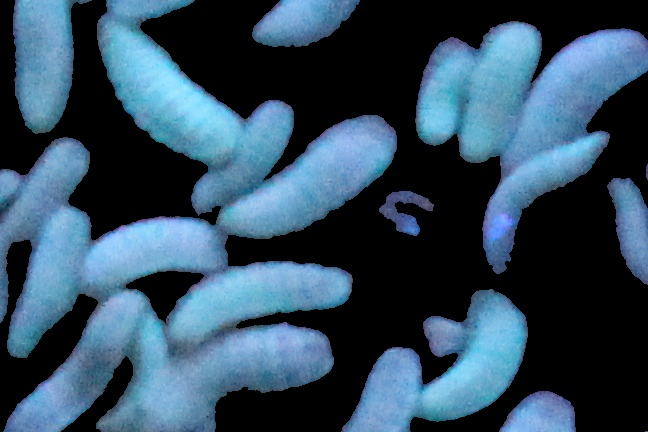larvae: (218, 109, 412, 239), (90, 12, 256, 158), (11, 293, 147, 431), (524, 12, 648, 157), (476, 144, 602, 279), (158, 262, 358, 336), (422, 284, 525, 424), (191, 93, 295, 213), (79, 208, 230, 284), (176, 323, 338, 393), (15, 206, 87, 357), (470, 20, 536, 160), (2, 141, 90, 239), (10, 1, 75, 132), (252, 1, 385, 57), (413, 29, 473, 149), (351, 338, 420, 432)
